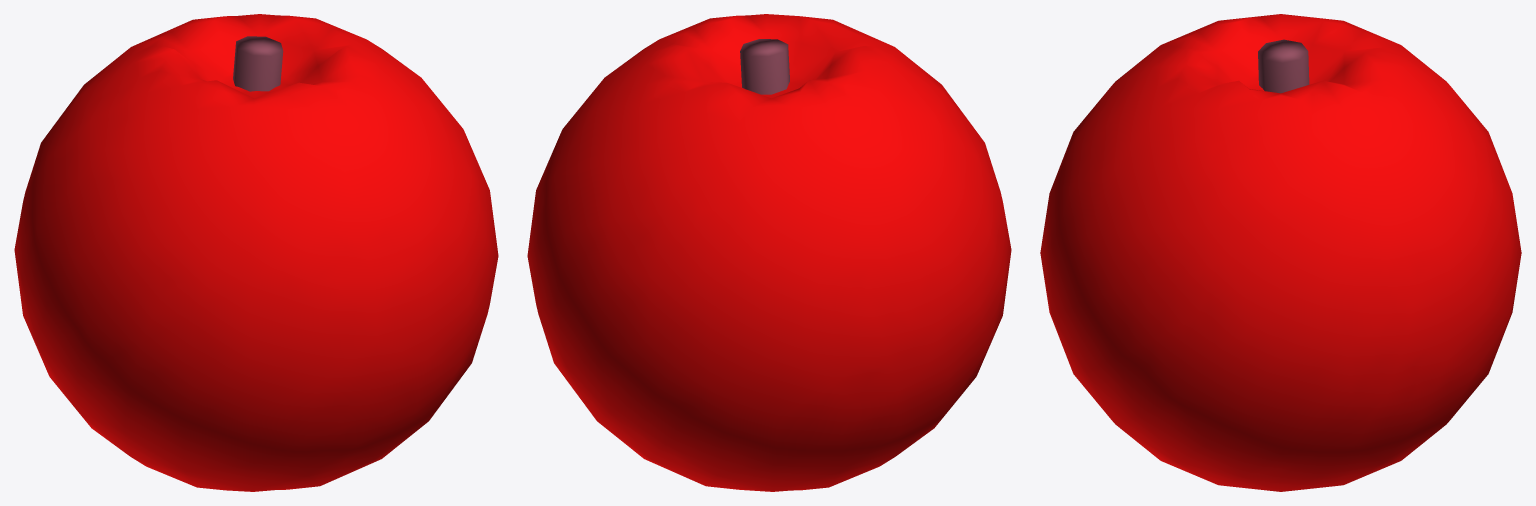
File: Pomidor.fbx
The picture shows the model from 3 angles, left to right: view 1: azimuth 30°, elevation 25°; view 2: azimuth 150°, elevation 25°; view 3: azimuth 270°, elevation 25°; orthographic projection.
Parts seen in each view (by area): view 1: Pomidor; view 2: Pomidor; view 3: Pomidor.
Boxes of the visible parts, x1=… form: Pomidor: x1=14, y1=14, x2=498, y2=491; Pomidor: x1=527, y1=14, x2=1011, y2=491; Pomidor: x1=1040, y1=14, x2=1521, y2=491.
Bounding box in the file's own units: 100 × 93.33 × 100.
